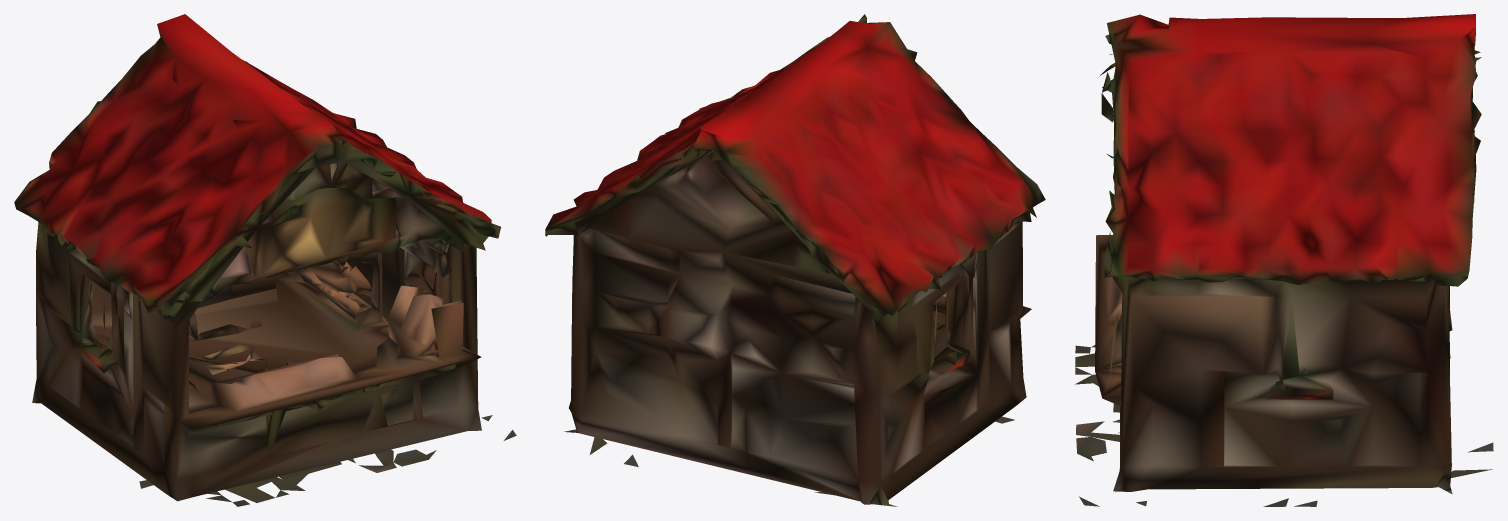
File: trdelnik-lo.glb
The picture shows the model from 3 angles, left to right: view 1: azimuth 30°, elevation 25°; view 2: azimuth 150°, elevation 25°; view 3: azimuth 270°, elevation 25°; orthographic projection. The views are drawn at different scales.
Visible parts, largest first — view 1: geometry_0; view 2: geometry_0; view 3: geometry_0.
Boxes of the visible parts, x1,y1,x2,y2 form: geometry_0: (14,14,516,506); geometry_0: (545,14,1045,506); geometry_0: (1075,14,1493,506).
Bounding box in the file's own units: 1.84 × 1.71 × 1.67.
